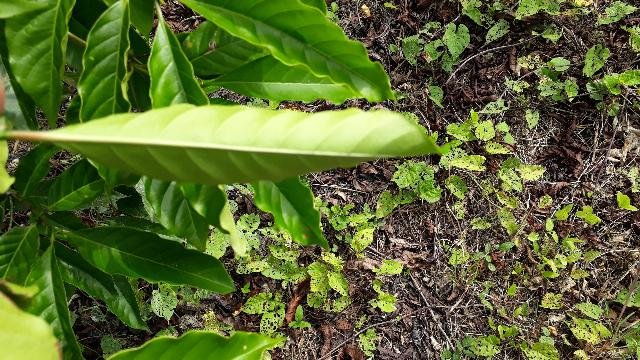healthy: (23, 102, 453, 185)
